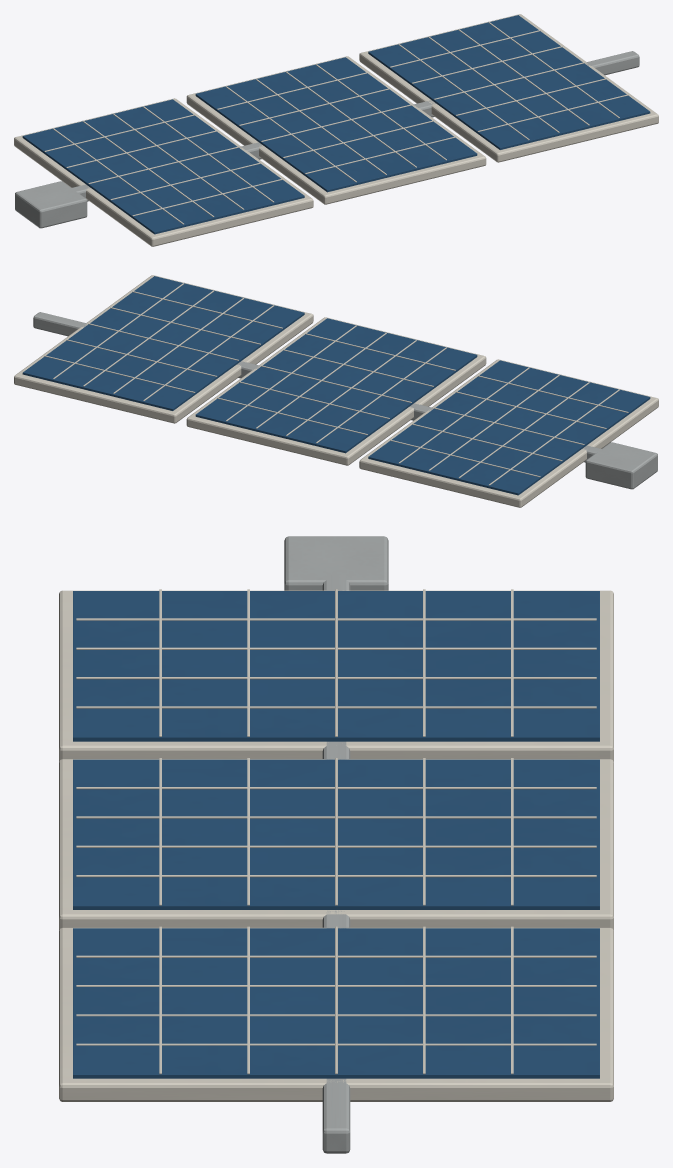
The model's file is extra_large_solar_wing.glb.
The picture shows the model from 3 angles, top to bottom: view 1: azimuth 30°, elevation 25°; view 2: azimuth 150°, elevation 25°; view 3: azimuth 270°, elevation 25°; orthographic projection. The views are drawn at different scales.
Parts seen in each view (by area): view 1: SolarCells, SolarCells.001, SolarCells.002, PanelFrame.002, PanelFrame.001, PanelFrame, Mount.002, CentralSpar; view 2: SolarCells, SolarCells.001, SolarCells.002, PanelFrame.002, PanelFrame.001, PanelFrame, Mount.002, CentralSpar; view 3: SolarCells.002, SolarCells, SolarCells.001, PanelFrame.002, PanelFrame.001, PanelFrame, Mount.002, CentralSpar, CellColumn, CellColumn.003, CellColumn.005, CellColumn.001 (+8 smaller).
Boxes of the visible parts, x1,y1,x2,y2 form: SolarCells: (22,99,304,234); SolarCells.001: (195,57,477,192); SolarCells.002: (368,15,650,149); PanelFrame.002: (359,14,658,162); PanelFrame.001: (186,56,486,204); PanelFrame: (14,98,313,246); Mount.002: (15,181,87,228); CentralSpar: (66,51,639,201); SolarCells: (368,360,650,495); SolarCells.001: (195,318,477,453); SolarCells.002: (22,276,304,410); PanelFrame.002: (14,275,313,423); PanelFrame.001: (186,317,486,465); PanelFrame: (359,359,658,507); Mount.002: (585,442,657,489); CentralSpar: (33,312,606,462); SolarCells.002: (73,928,599,1078); SolarCells: (73,591,599,741); SolarCells.001: (73,759,599,909); PanelFrame.002: (59,927,613,1101); PanelFrame.001: (59,759,613,929); PanelFrame: (59,590,613,761); Mount.002: (284,536,388,590); CentralSpar: (322,574,350,1153); CellColumn: (76,618,596,620); CellColumn.003: (76,706,596,708); CellColumn.005: (76,816,596,818); CellColumn.001: (76,647,596,649).
Size of the model in its own units: 4.06 by 0.138 by 1.6.
3 materials, 3 textured.
